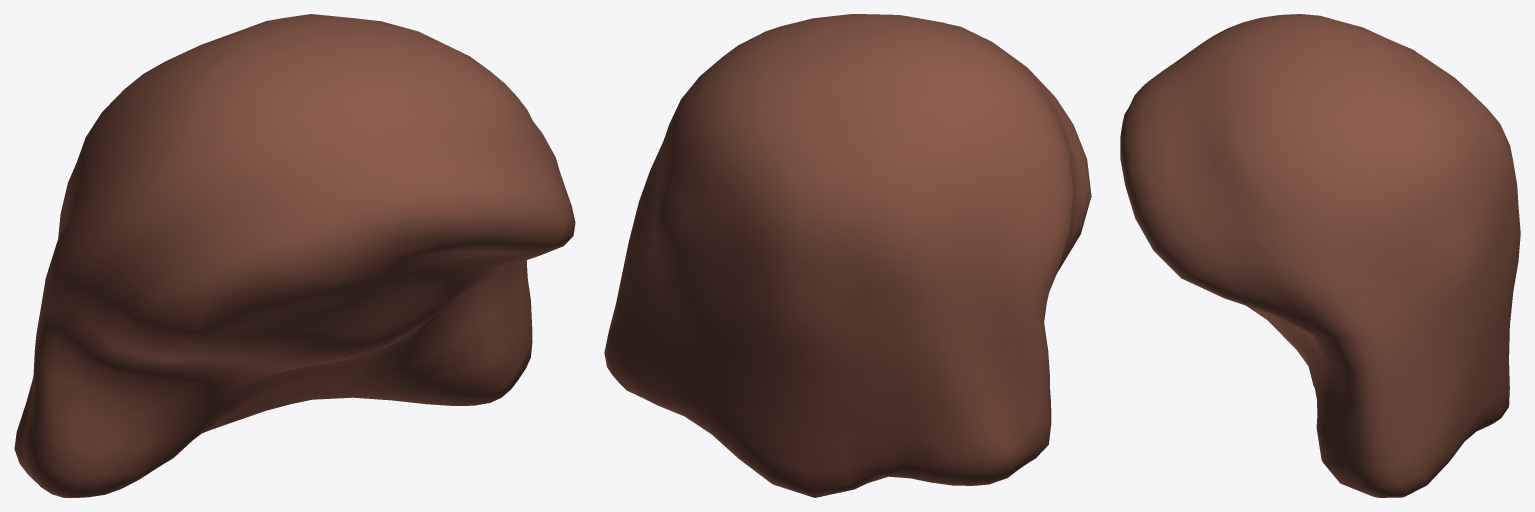
The model's file is Hairstyle_Female_03.glb.
The picture shows the model from 3 angles, left to right: view 1: azimuth 30°, elevation 25°; view 2: azimuth 150°, elevation 25°; view 3: azimuth 270°, elevation 25°; orthographic projection. The views are drawn at different scales.
Parts seen in each view (by area): view 1: Hairstyle_Female_03; view 2: Hairstyle_Female_03; view 3: Hairstyle_Female_03.
Part boxes in pixels (x1,y1,x2,y2): Hairstyle_Female_03: (14, 14, 575, 497); Hairstyle_Female_03: (604, 14, 1091, 497); Hairstyle_Female_03: (1120, 14, 1520, 497).
Size of the model in its own units: 0.6808 by 0.5878 by 0.5591.
Materials: 1 (1 with a texture image).
